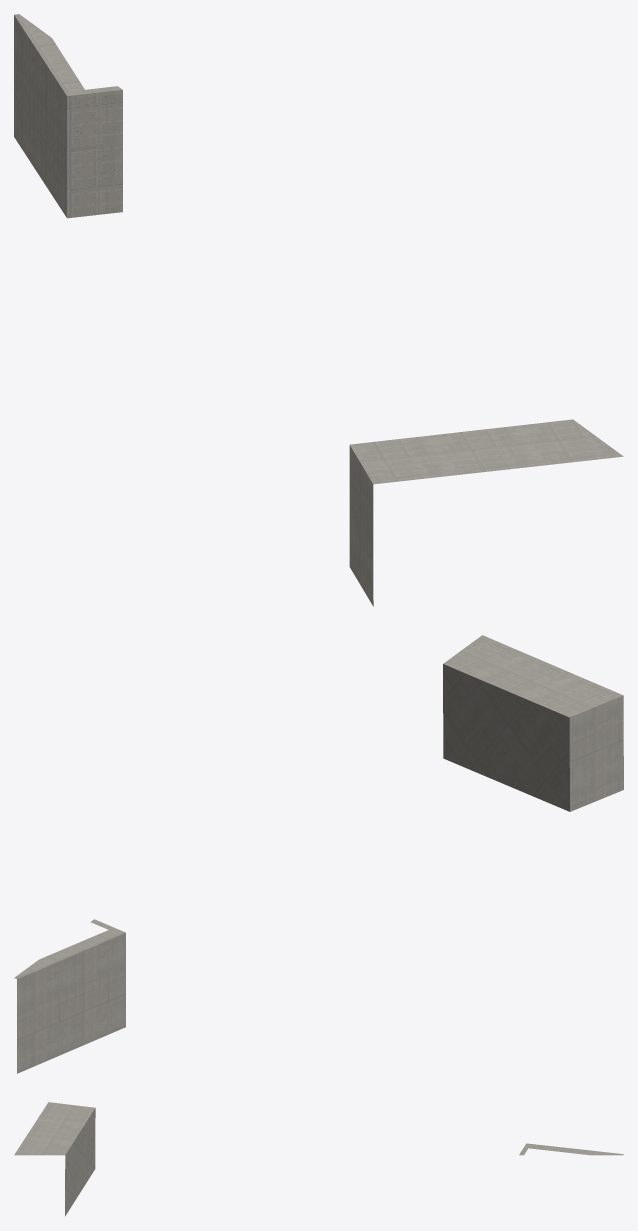
The model's file is kd_stage_1364a3_4_20_bounded.glb.
The picture shows the model from 3 angles, top to bottom: view 1: azimuth 30°, elevation 25°; view 2: azimuth 150°, elevation 25°; view 3: azimuth 270°, elevation 25°; orthographic projection. The views are drawn at different scales.
Visible parts, largest first — view 1: kd_stage_1364a3_4_20_bounded; view 2: kd_stage_1364a3_4_20_bounded; view 3: kd_stage_1364a3_4_20_bounded.
Part boxes in pixels (x1=…): kd_stage_1364a3_4_20_bounded: x1=14, y1=14, x2=623, y2=606; kd_stage_1364a3_4_20_bounded: x1=14, y1=635, x2=623, y2=1073; kd_stage_1364a3_4_20_bounded: x1=14, y1=1102, x2=623, y2=1216.
Bounding box in the file's own units: 32.44 × 17.49 × 157.
Materials: 1 (1 with a texture image).
